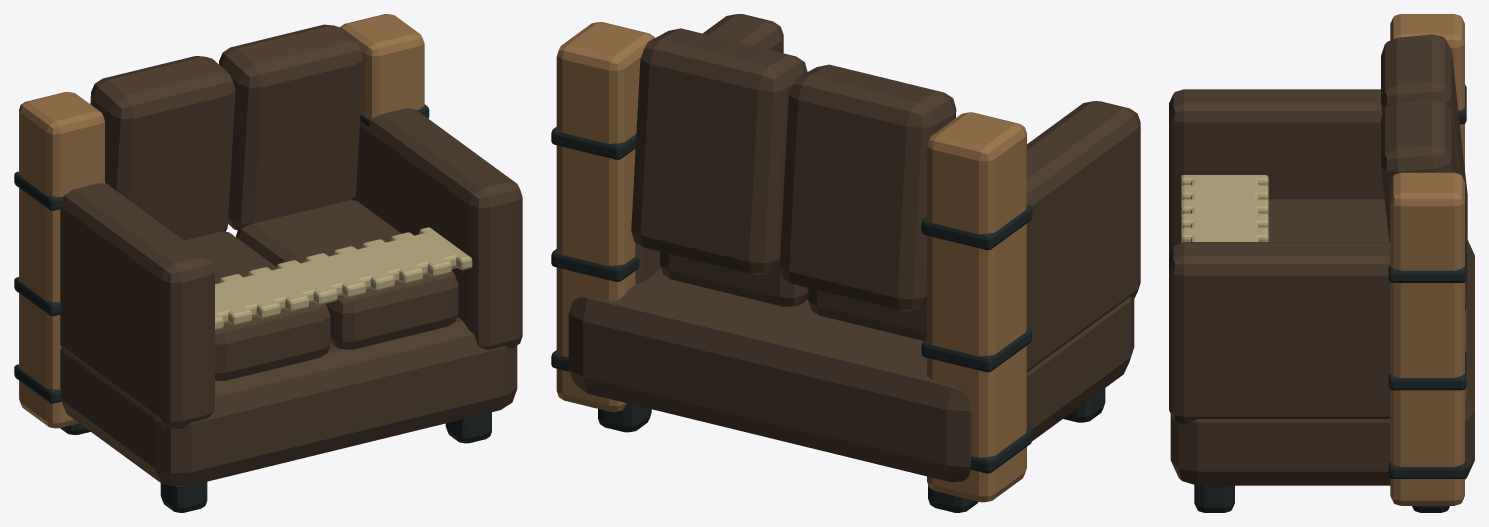
The model's file is better.glb.
3 renders of one model, left to right at view 1: azimuth 30°, elevation 25°; view 2: azimuth 150°, elevation 25°; view 3: azimuth 270°, elevation 25°, orthographic. The views are drawn at different scales.
Parts seen in each view (by area): view 1: Armrest, Timber post, Fur tufts, Iron strap; view 2: Armrest, Timber post, Iron strap; view 3: Armrest, Timber post, Fur tufts, Iron strap.
Part boxes in pixels (box(x1,y1,x2,y2)): Armrest: box(60, 24, 522, 486); Timber post: box(19, 14, 457, 428); Fur tufts: box(215, 227, 472, 330); Iron strap: box(14, 104, 491, 512); Armrest: box(568, 14, 1140, 482); Timber post: box(556, 22, 1026, 502); Iron strap: box(551, 127, 1105, 512); Armrest: box(1169, 34, 1474, 485); Timber post: box(1390, 14, 1464, 505); Fur tufts: box(1181, 175, 1268, 242); Iron strap: box(1194, 84, 1466, 512).
Bounding box in the file's own units: 1.47 × 1.26 × 1.01.
